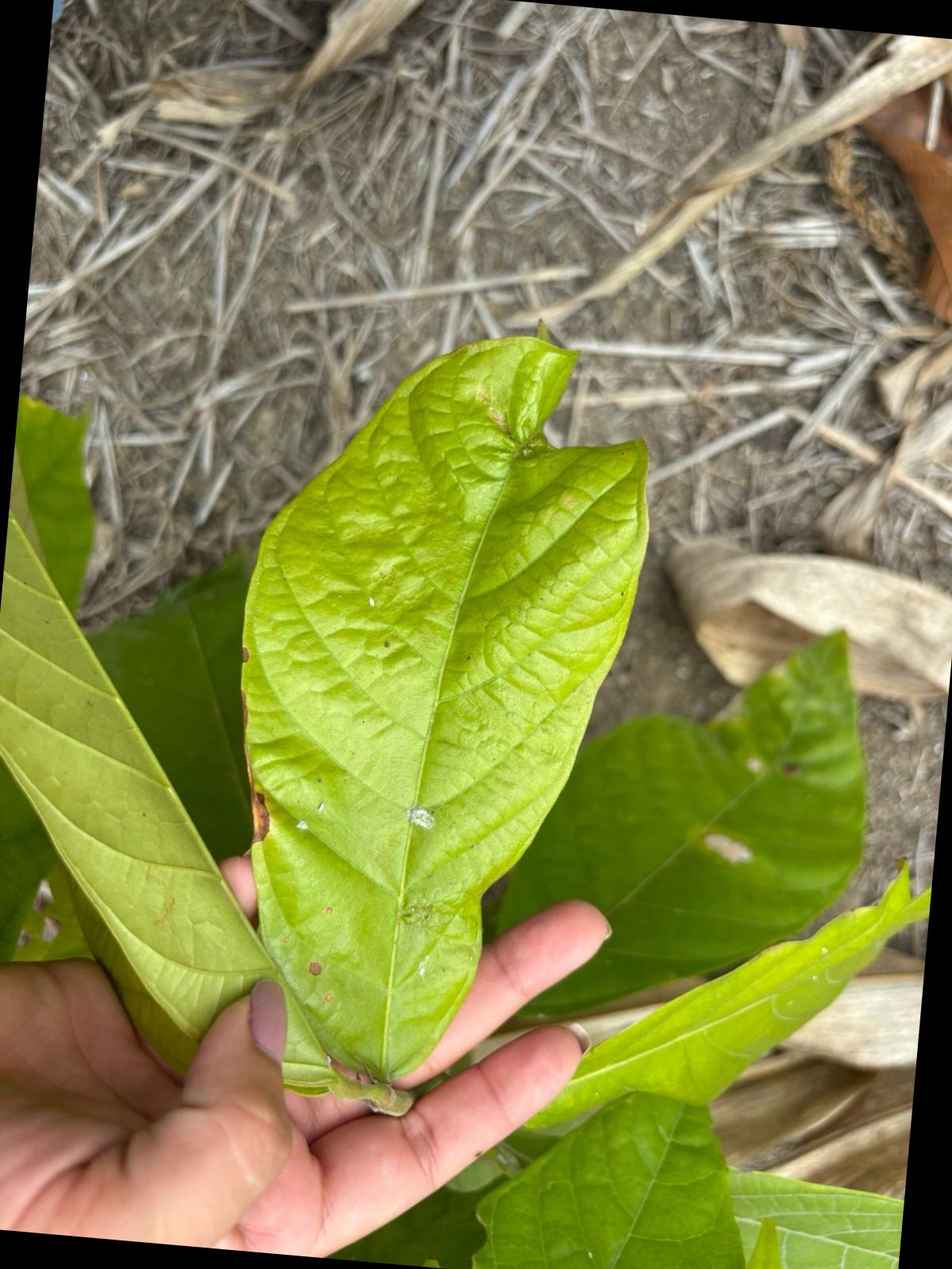Nitrogeno: (241, 338, 647, 1081)
